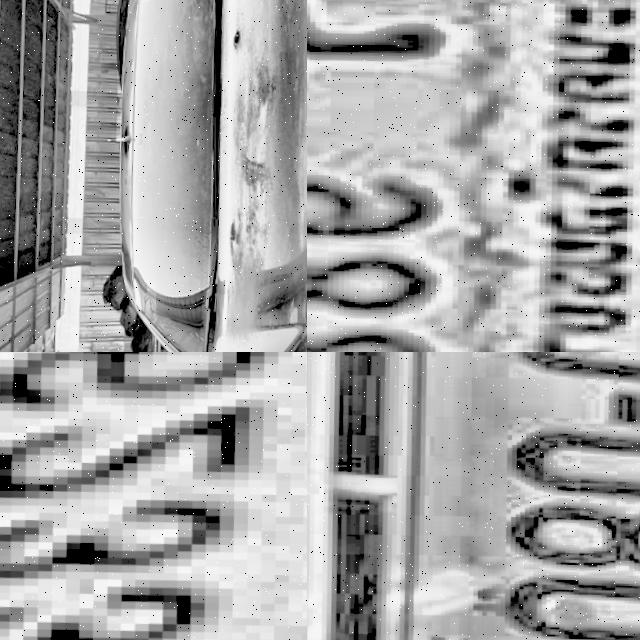license-plate: (307, 0, 640, 352), (314, 352, 640, 640), (0, 352, 307, 640)
